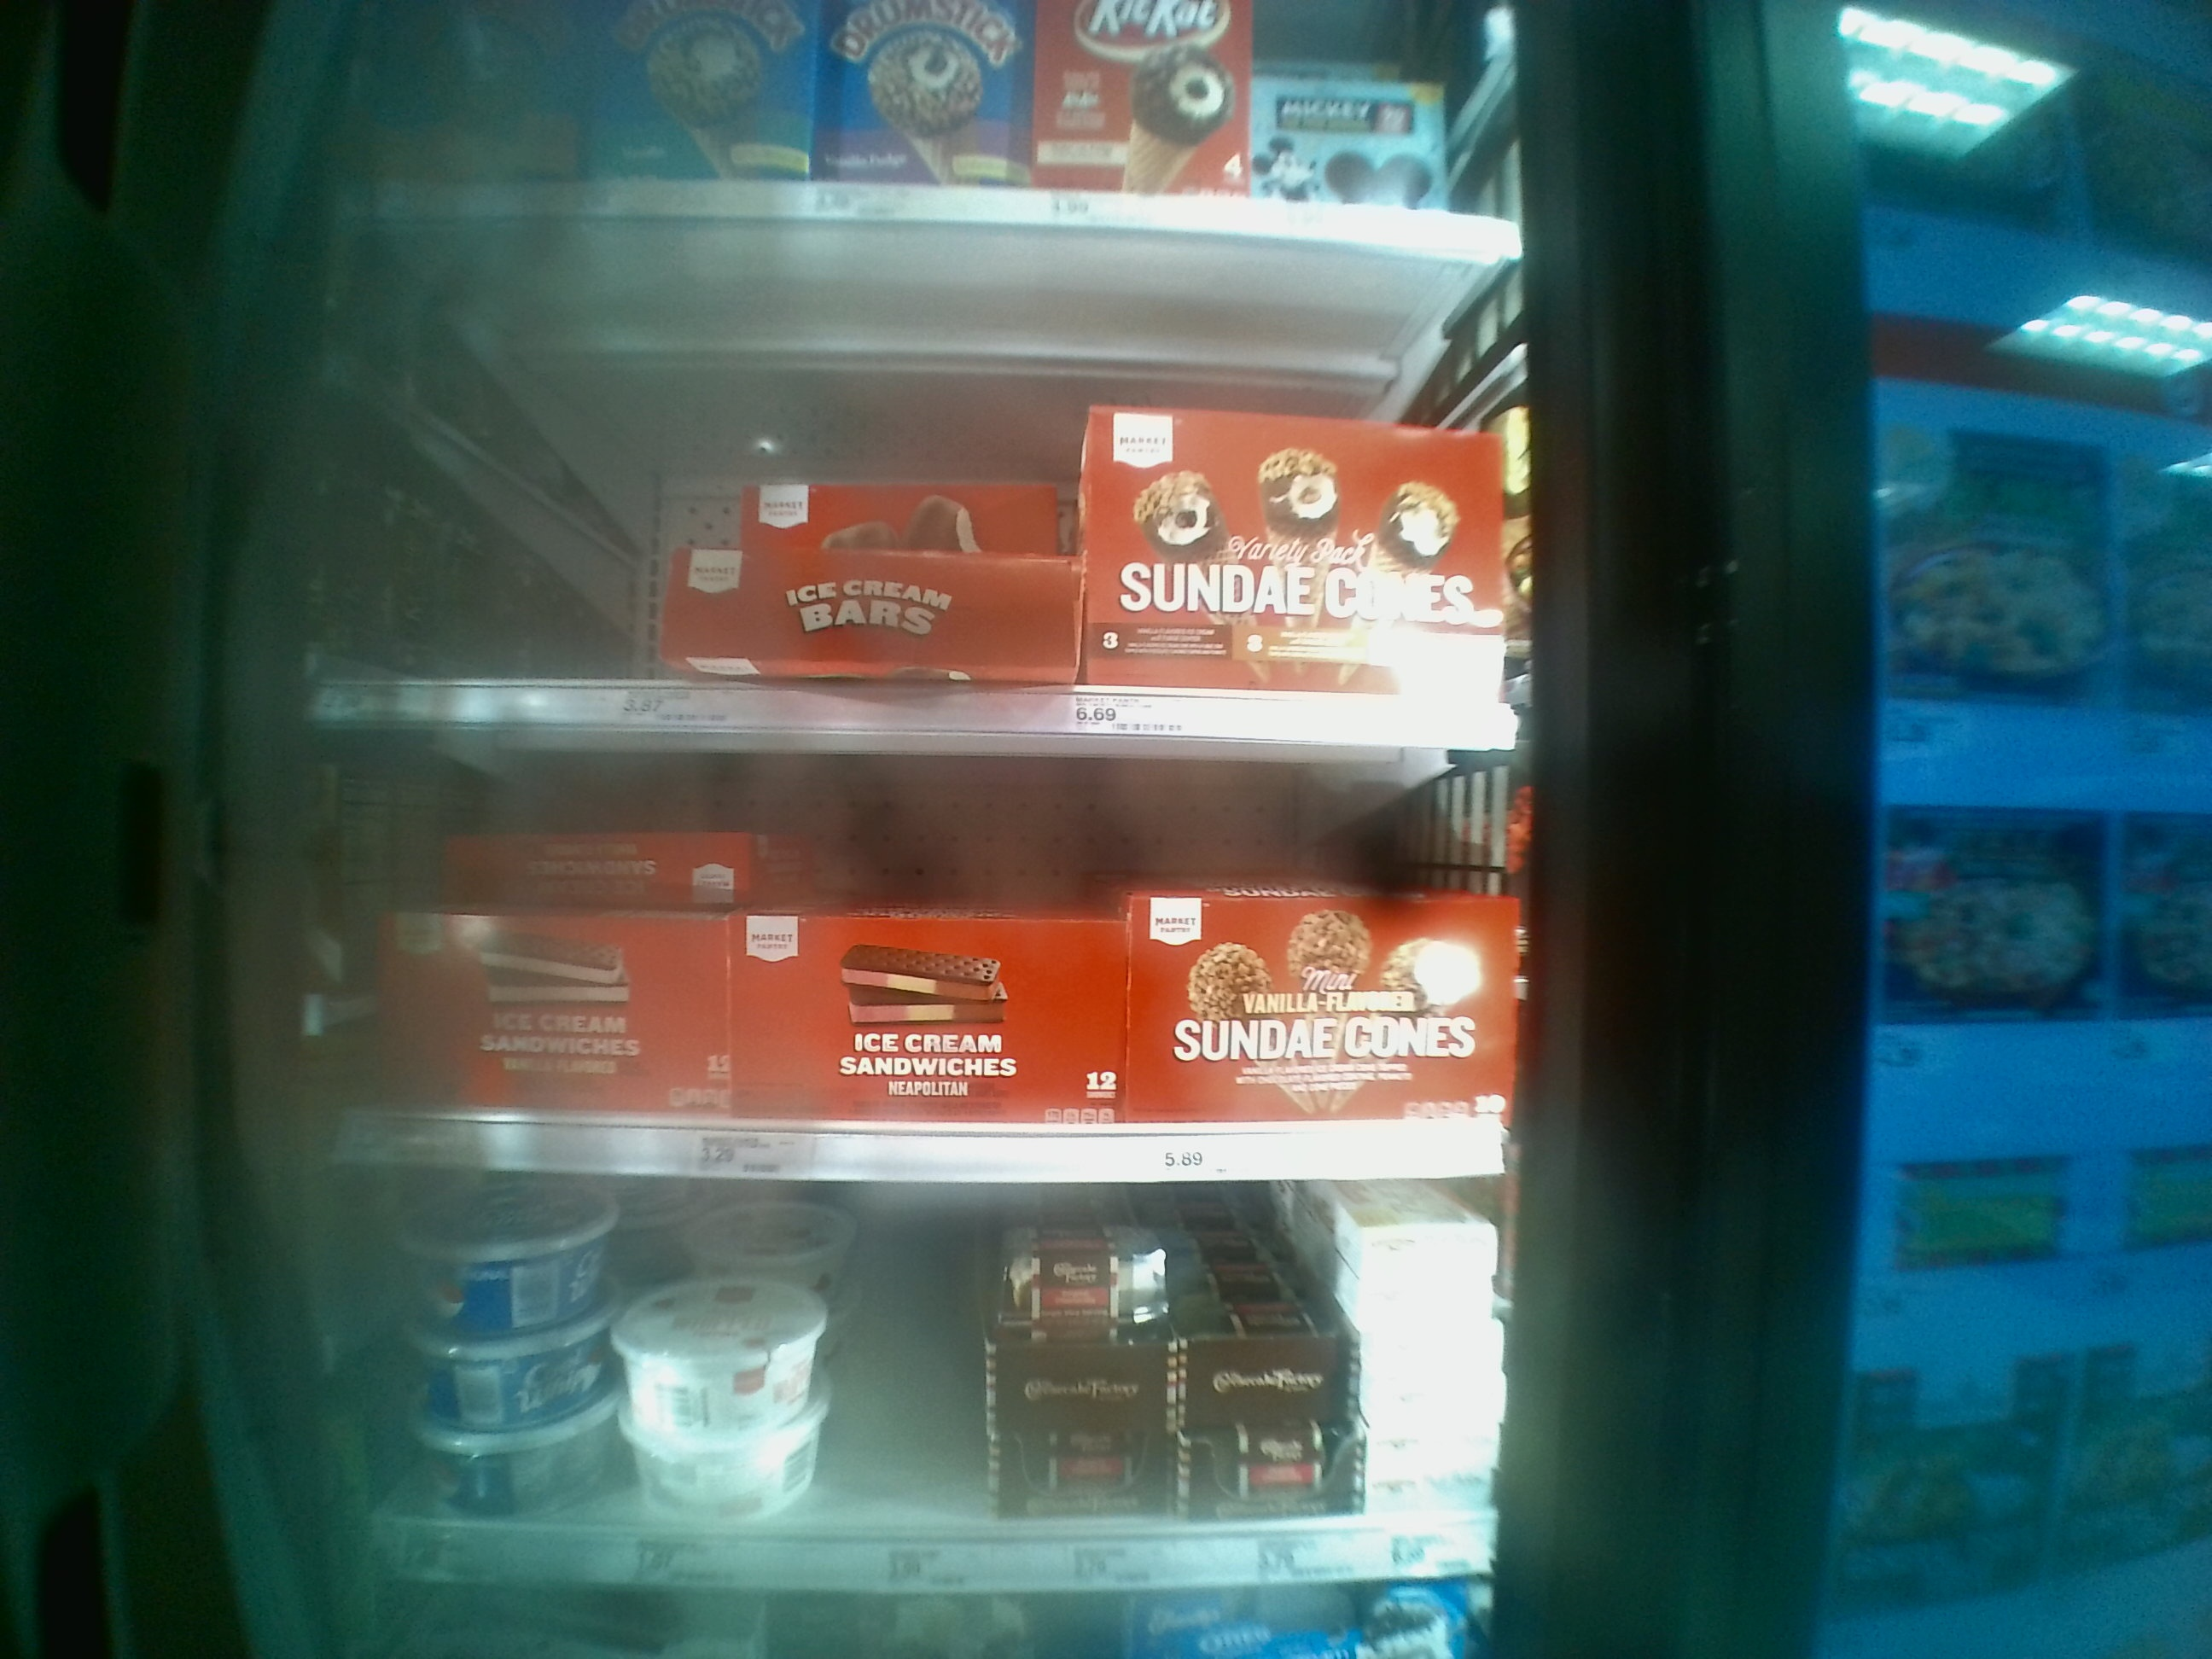shelf: (289, 237, 1555, 753), (291, 753, 1550, 1185), (291, 1180, 1583, 1595)
